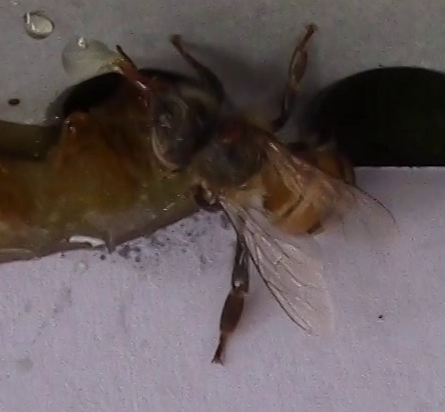Varroa destructor: (215, 115, 244, 143)
